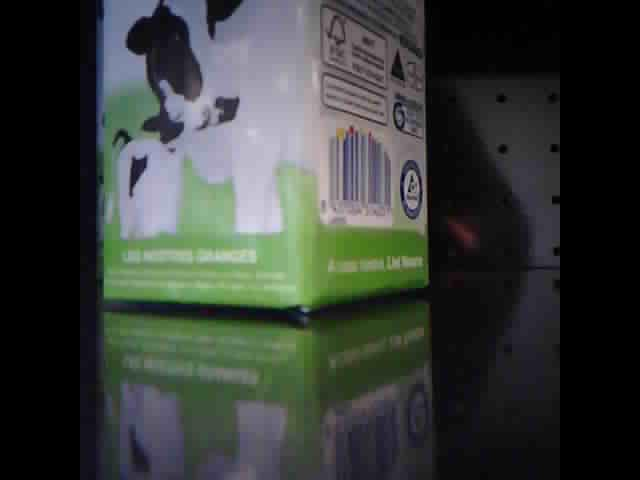leche: (101, 6, 426, 311)
